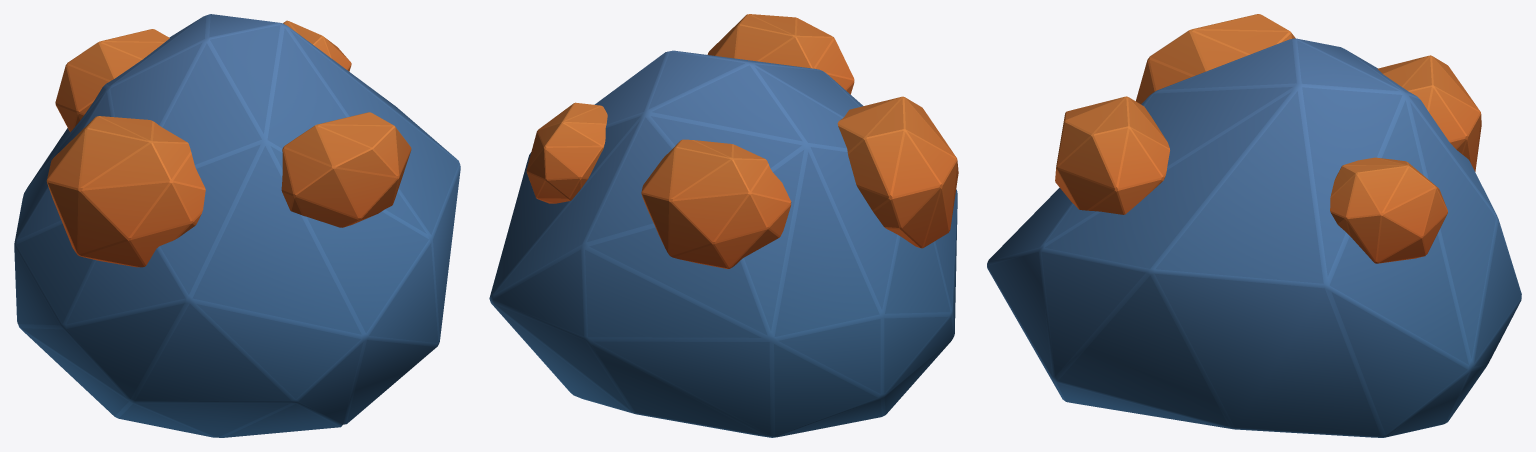
The model's file is Ore_Copper_1.glb.
3 renders of one model, left to right at view 1: azimuth 30°, elevation 25°; view 2: azimuth 150°, elevation 25°; view 3: azimuth 270°, elevation 25°, orthographic. The views are drawn at different scales.
Visible parts, largest first — view 1: Ore_Coper_1; view 2: Ore_Coper_1; view 3: Ore_Coper_1.
Boxes of the visible parts, bbox=[...] form: Ore_Coper_1: bbox=[14, 14, 460, 437]; Ore_Coper_1: bbox=[489, 14, 958, 437]; Ore_Coper_1: bbox=[987, 14, 1521, 437].
Size of the model in its own units: 1.38 by 1.2 by 1.55.
